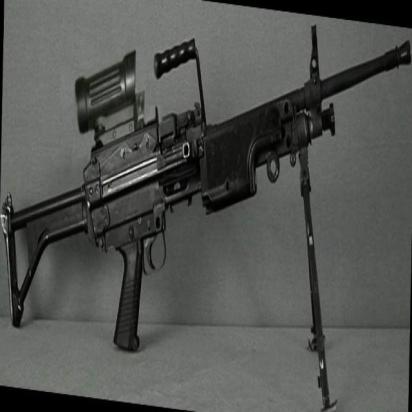Gun: (7, 0, 412, 371)
